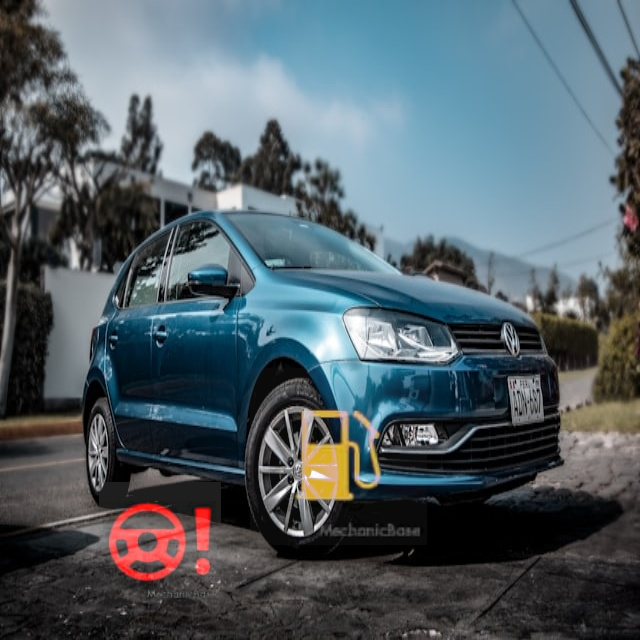symbol: (250, 368, 427, 545), (99, 482, 221, 604)
